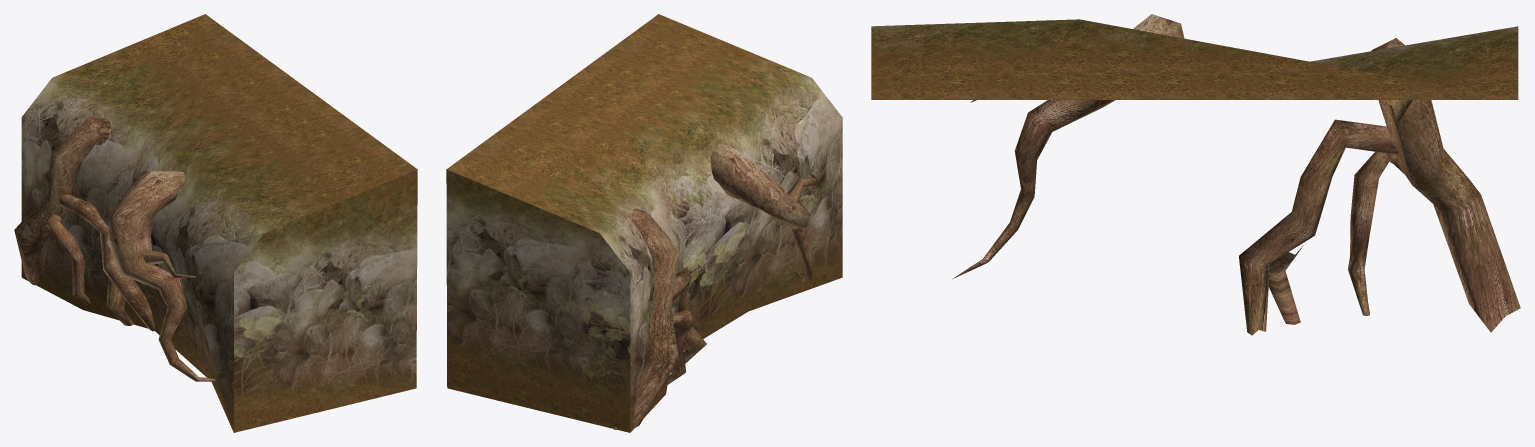
The model's file is n_tilewallC_6.glb.
3 renders of one model, left to right at view 1: azimuth 30°, elevation 25°; view 2: azimuth 150°, elevation 25°; view 3: azimuth 270°, elevation 25°, orthographic. The views are drawn at different scales.
Visible parts, largest first — view 1: n_tilewallC_6; view 2: n_tilewallC_6; view 3: n_tilewallC_6.
Part boxes in pixels (x1,y1,x2,y2): n_tilewallC_6: [14, 14, 417, 432]; n_tilewallC_6: [446, 14, 842, 432]; n_tilewallC_6: [871, 14, 1520, 335].
Bounding box in the file's own units: 3.63 × 3.41 × 6.02.
2 materials, 2 textured.
